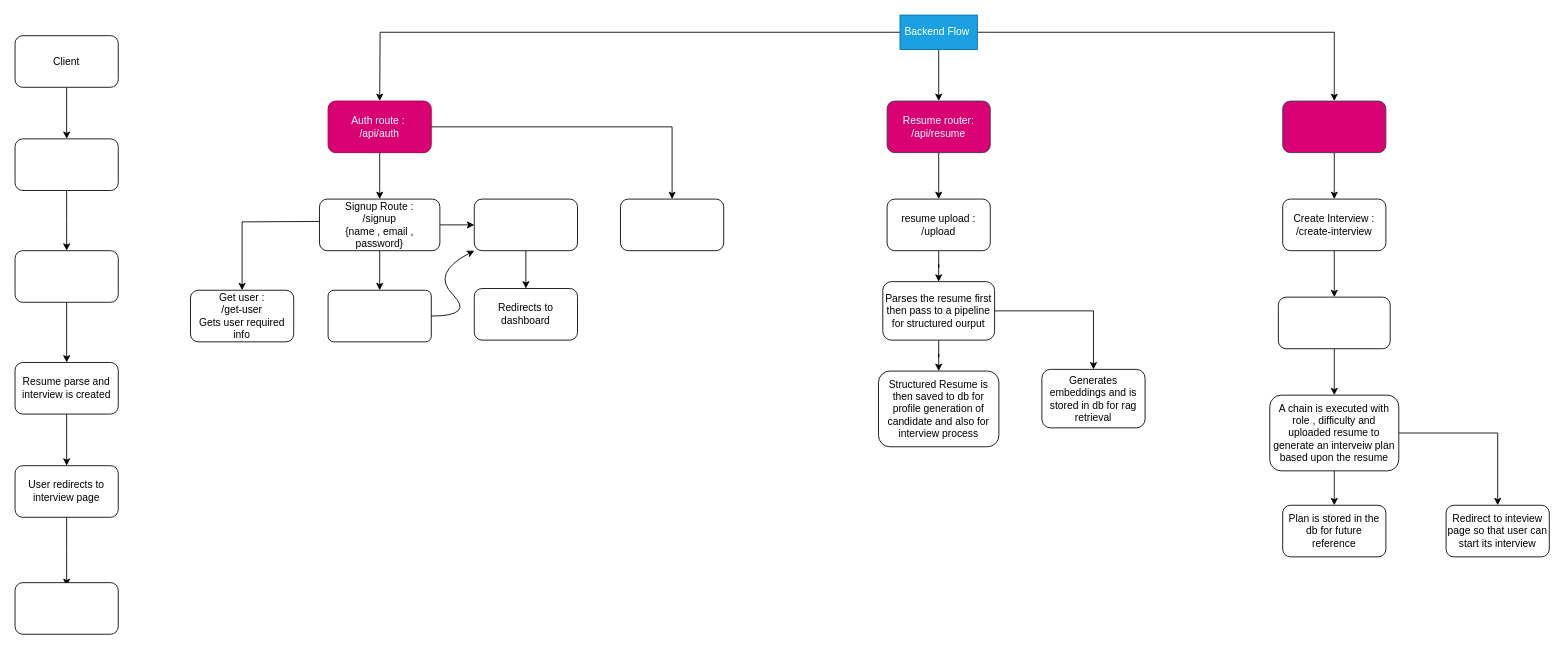
Some shapes in this 1564 by 649 pixel diagram are drawn without their labels. Here are the shapes that lost their labels. From the top down, the box of each, then its label:
(1282, 100, 1386, 153): Interview Router: /api/interview
(14, 138, 118, 190): Login / signup
(473, 198, 577, 251): Login Route : /login {email , password}
(620, 198, 724, 251): Auth middleware verifies jwt token on every request
(14, 250, 118, 302): Upload resume
(327, 289, 431, 342): Email verification through OTP and then login
(1278, 296, 1390, 349): Gets role and difficulty from user and then user uploaded resume
(14, 582, 118, 634): User starts interview
